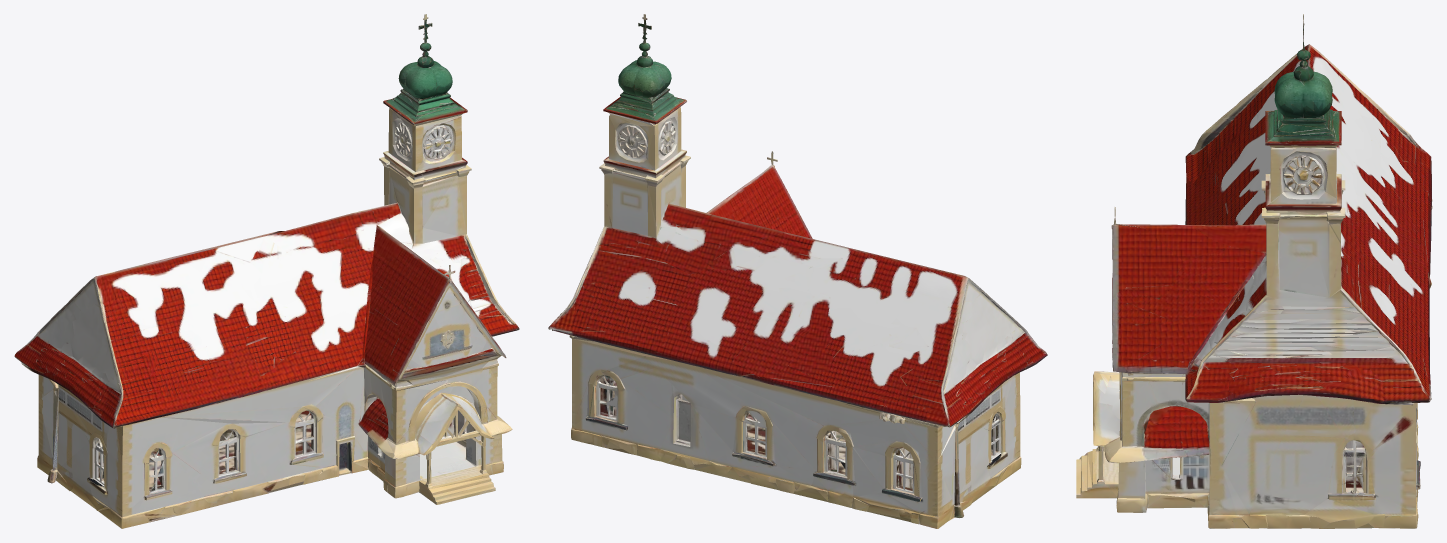
File: church.glb
3 renders of one model, left to right at view 1: azimuth 30°, elevation 25°; view 2: azimuth 150°, elevation 25°; view 3: azimuth 270°, elevation 25°, orthographic. The views are drawn at different scales.
Size of the model in its own units: 1.9 by 1.78 by 1.16.
Materials: 1 (1 with a texture image).
